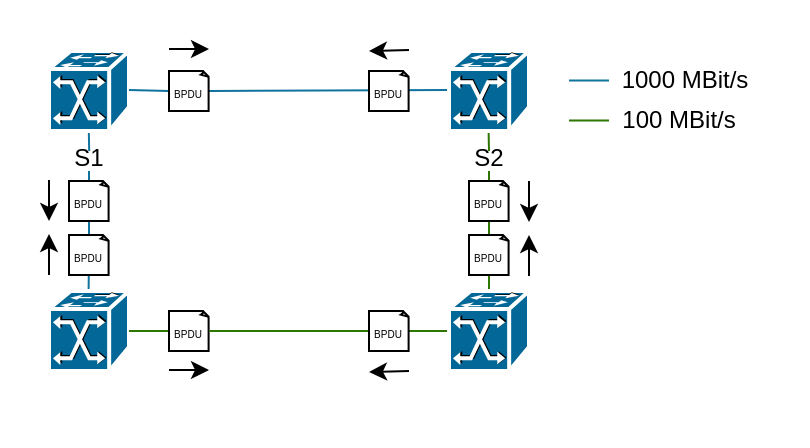
Image size: 810x448. Some labels were removed from this diagram. Each missing label, with the centre of its shape:
"S3" goes at [488,330].
"S4" goes at [88,330].
